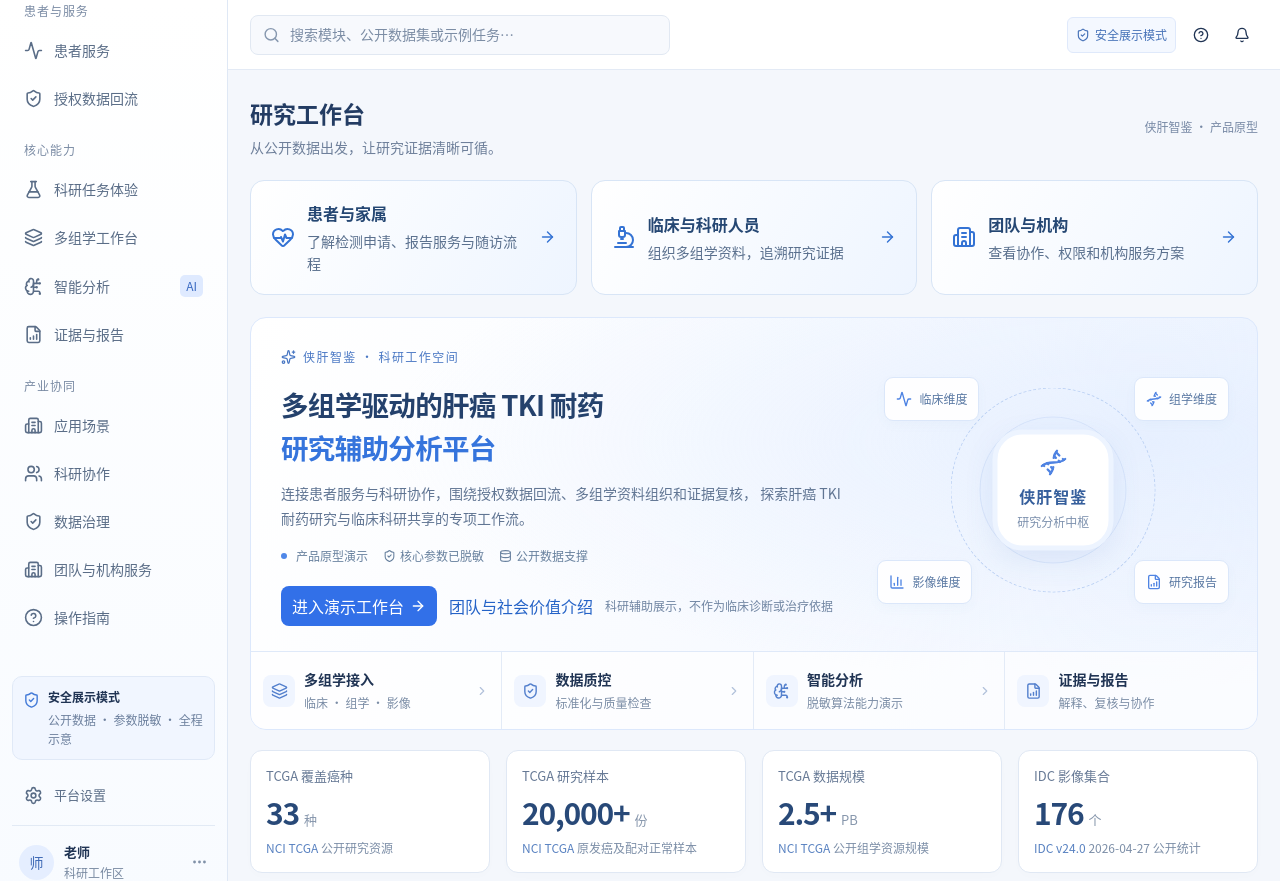
Test: 角色指南切换后展示对应操作且可以跳转
(page scrolled)
Step 1. Click the button "操作指南" → click(114, 618), box left=12, top=595, right=215, bottom=640
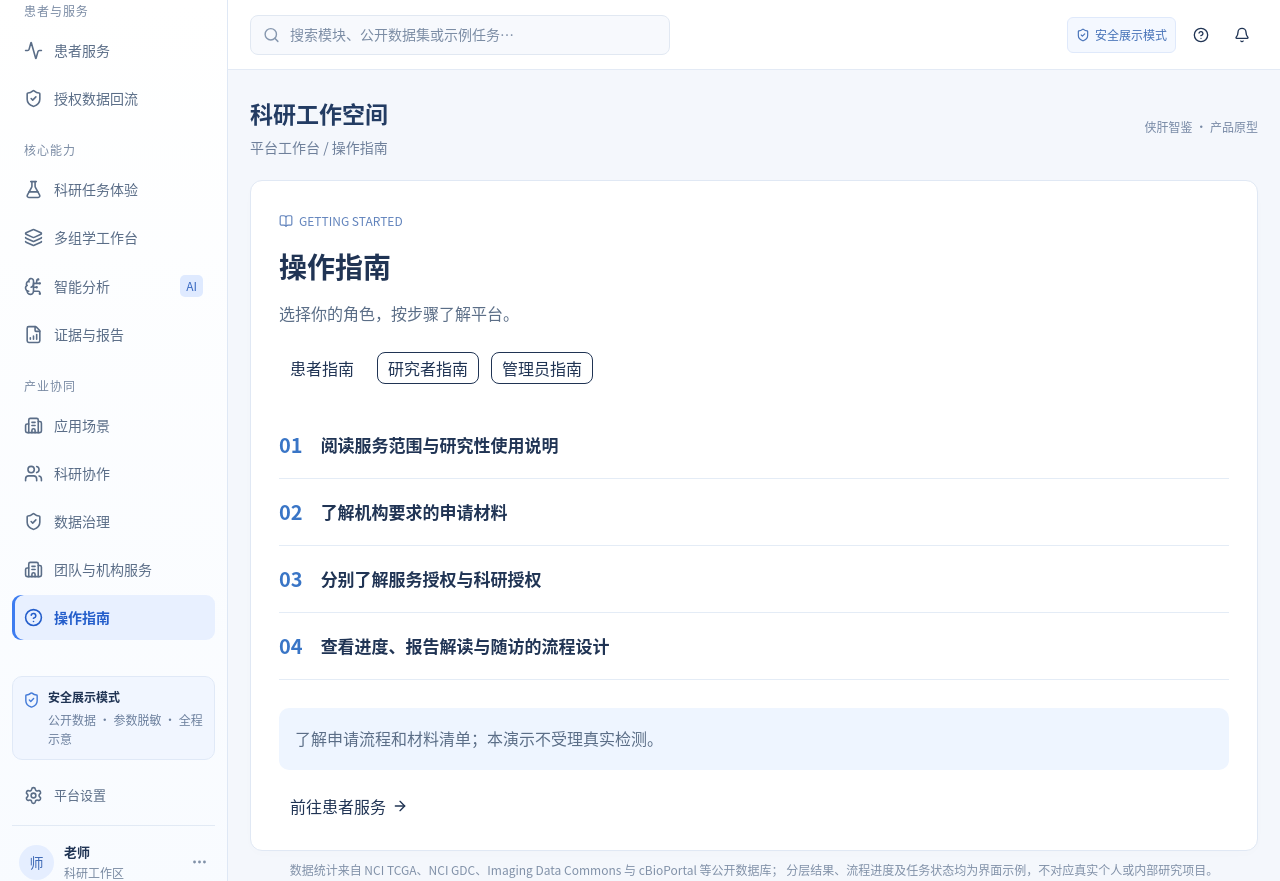
Step 2. Click the button "研究者指南" → click(428, 368), box left=377, top=352, right=479, bottom=384
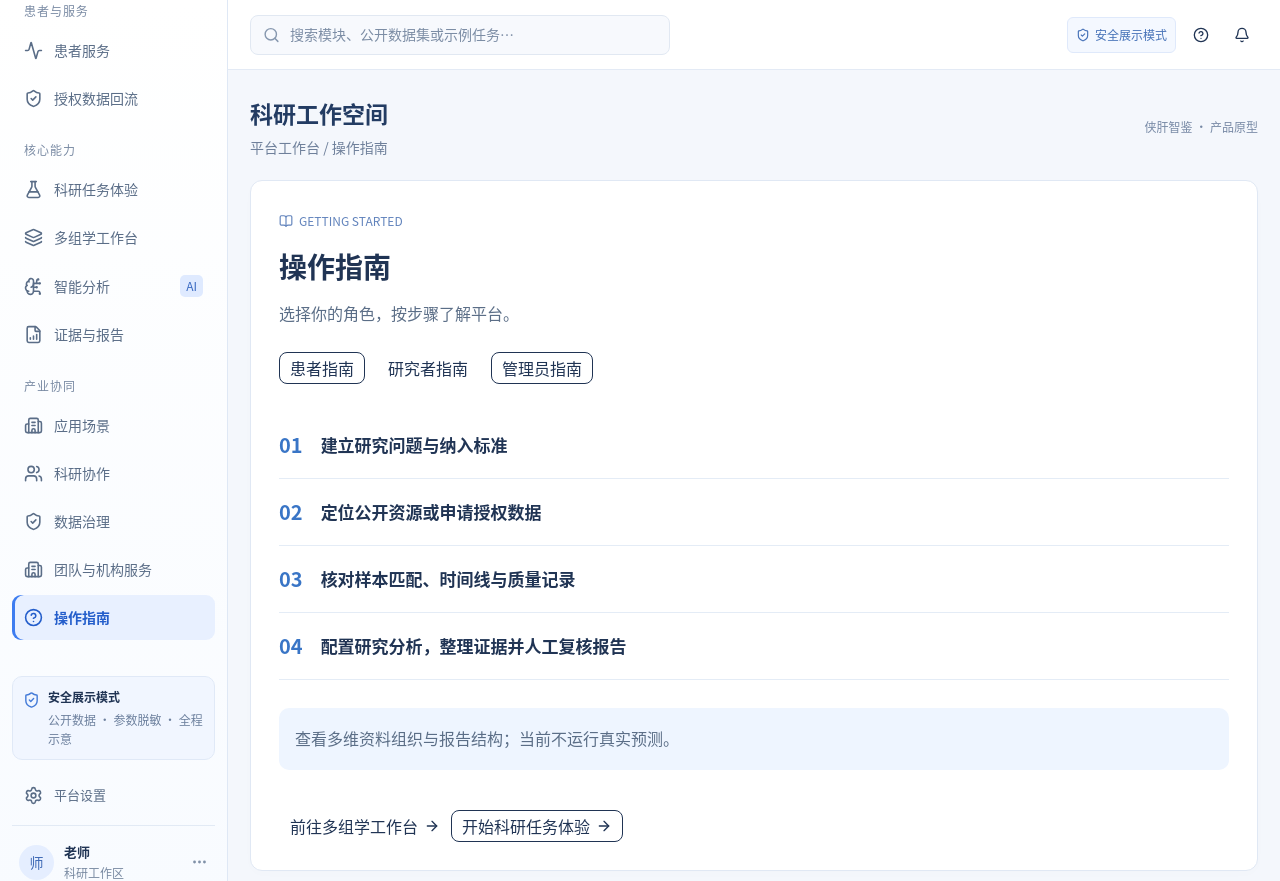
Expected: the heading "建立研究问题与纳入标准" is shown, left=321, top=432, right=508, bottom=458
Step 3. Click the button "前往多组学工作台" → click(365, 826), box left=279, top=810, right=451, bottom=842
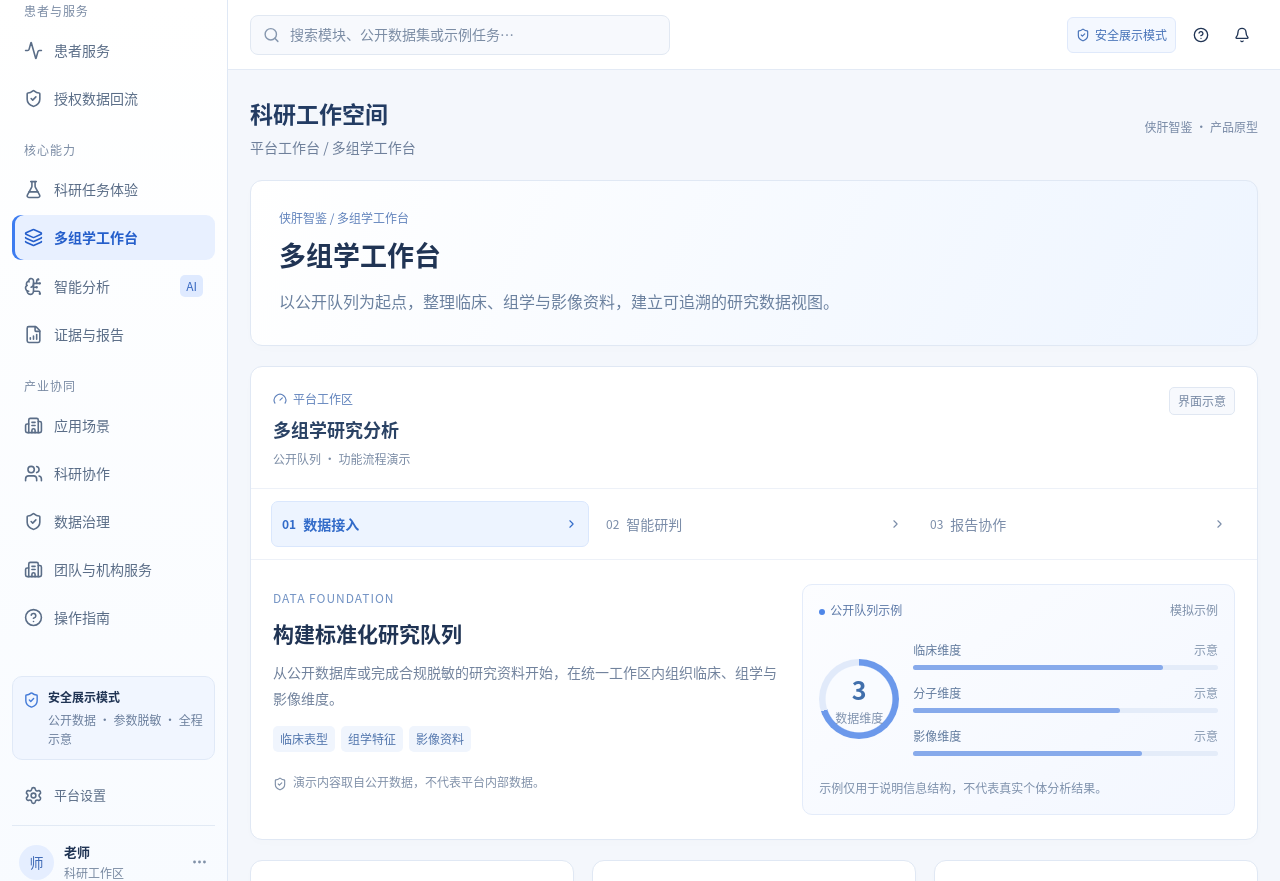
Expected: the heading "多组学工作台" is shown, left=279, top=234, right=441, bottom=274
